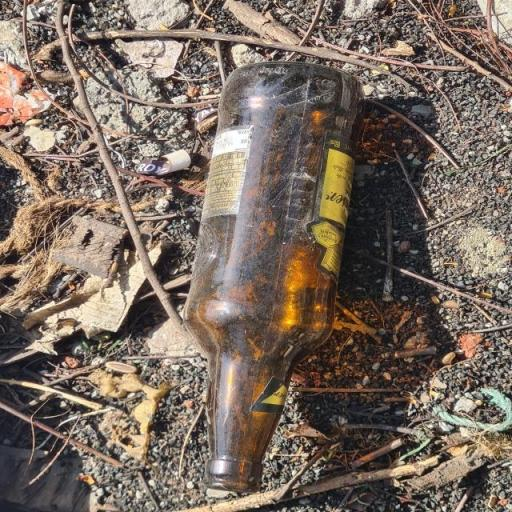glass: (171, 48, 364, 502)
